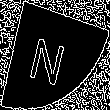N_N: (34, 25, 76, 85)
